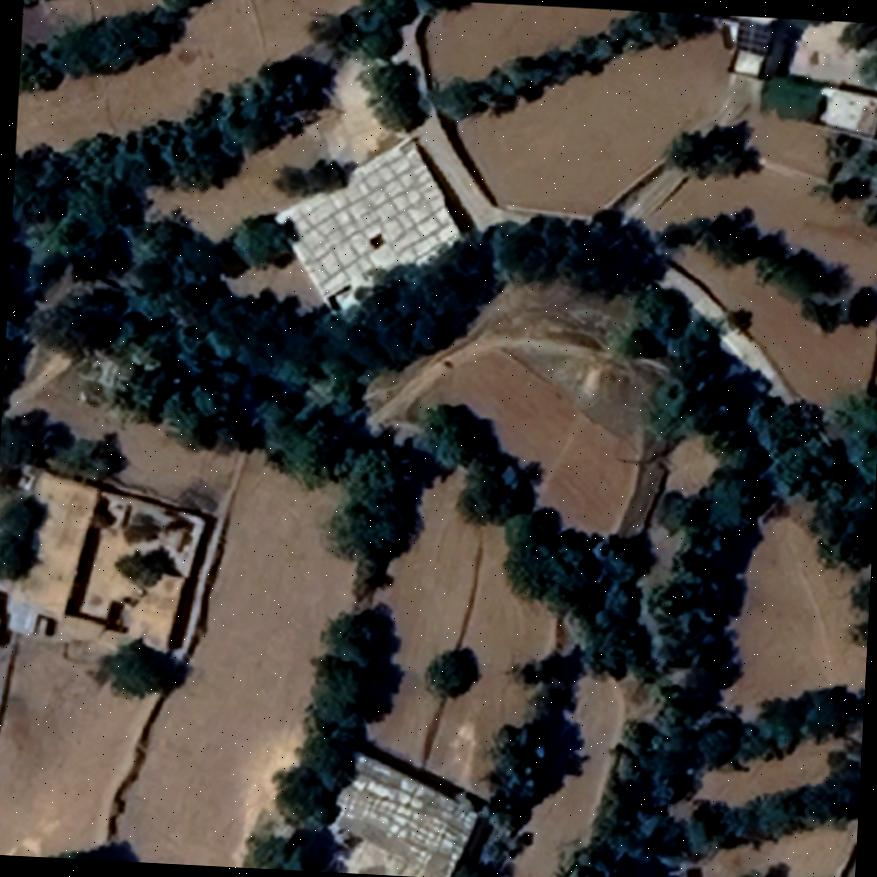Solarpanel: (732, 16, 773, 56)
